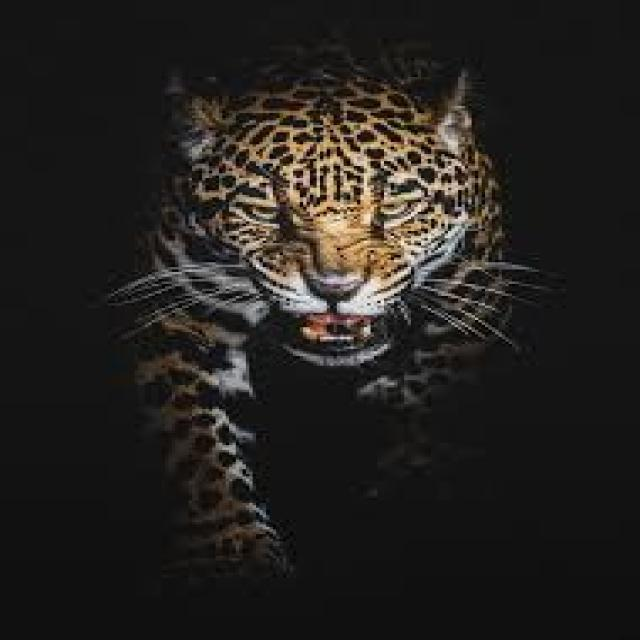Jaguar: (91, 0, 535, 589)
